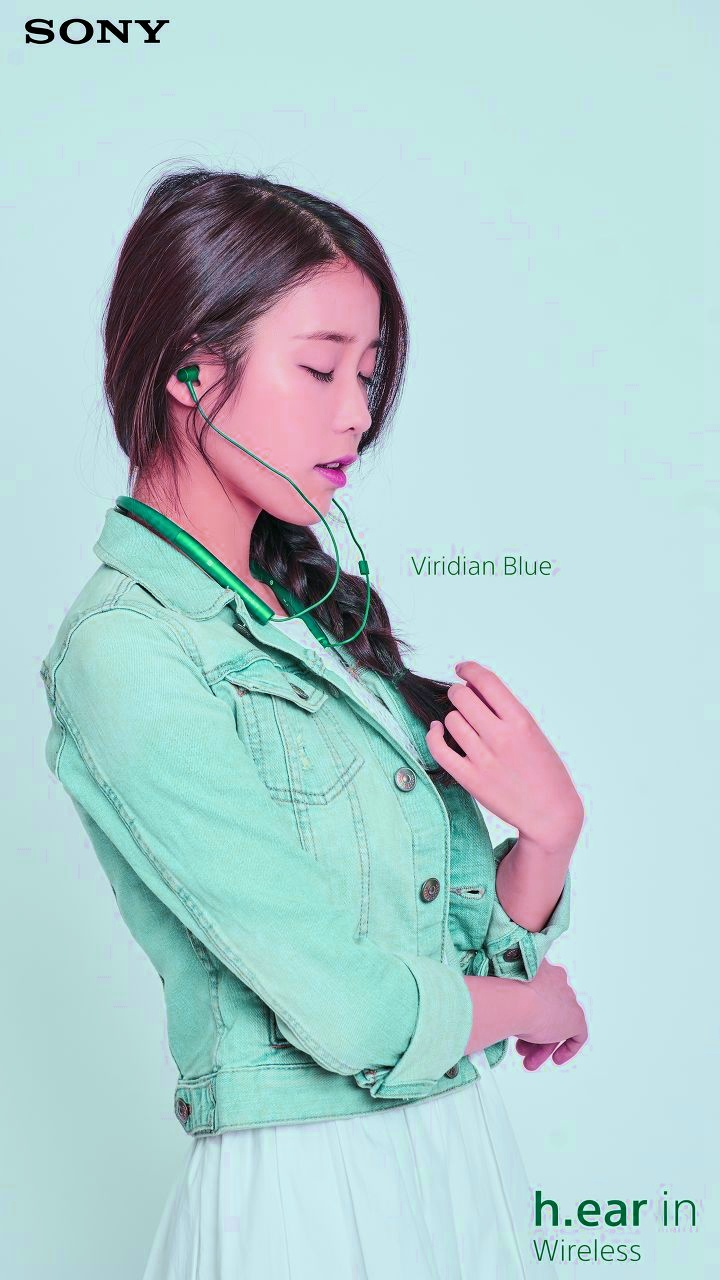earphone: (163, 336, 210, 408)
